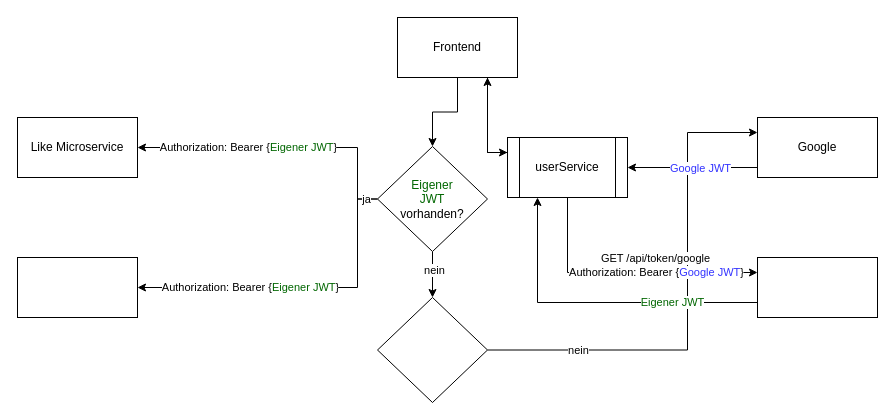
This 895x420 diagram has some shape labels left out. Each missing label, with the centre of its shape:
App Microservice: the point at 817,287
Chat Microservice: the point at 77,287
Google JWT vorhanden?: the point at 432,349
